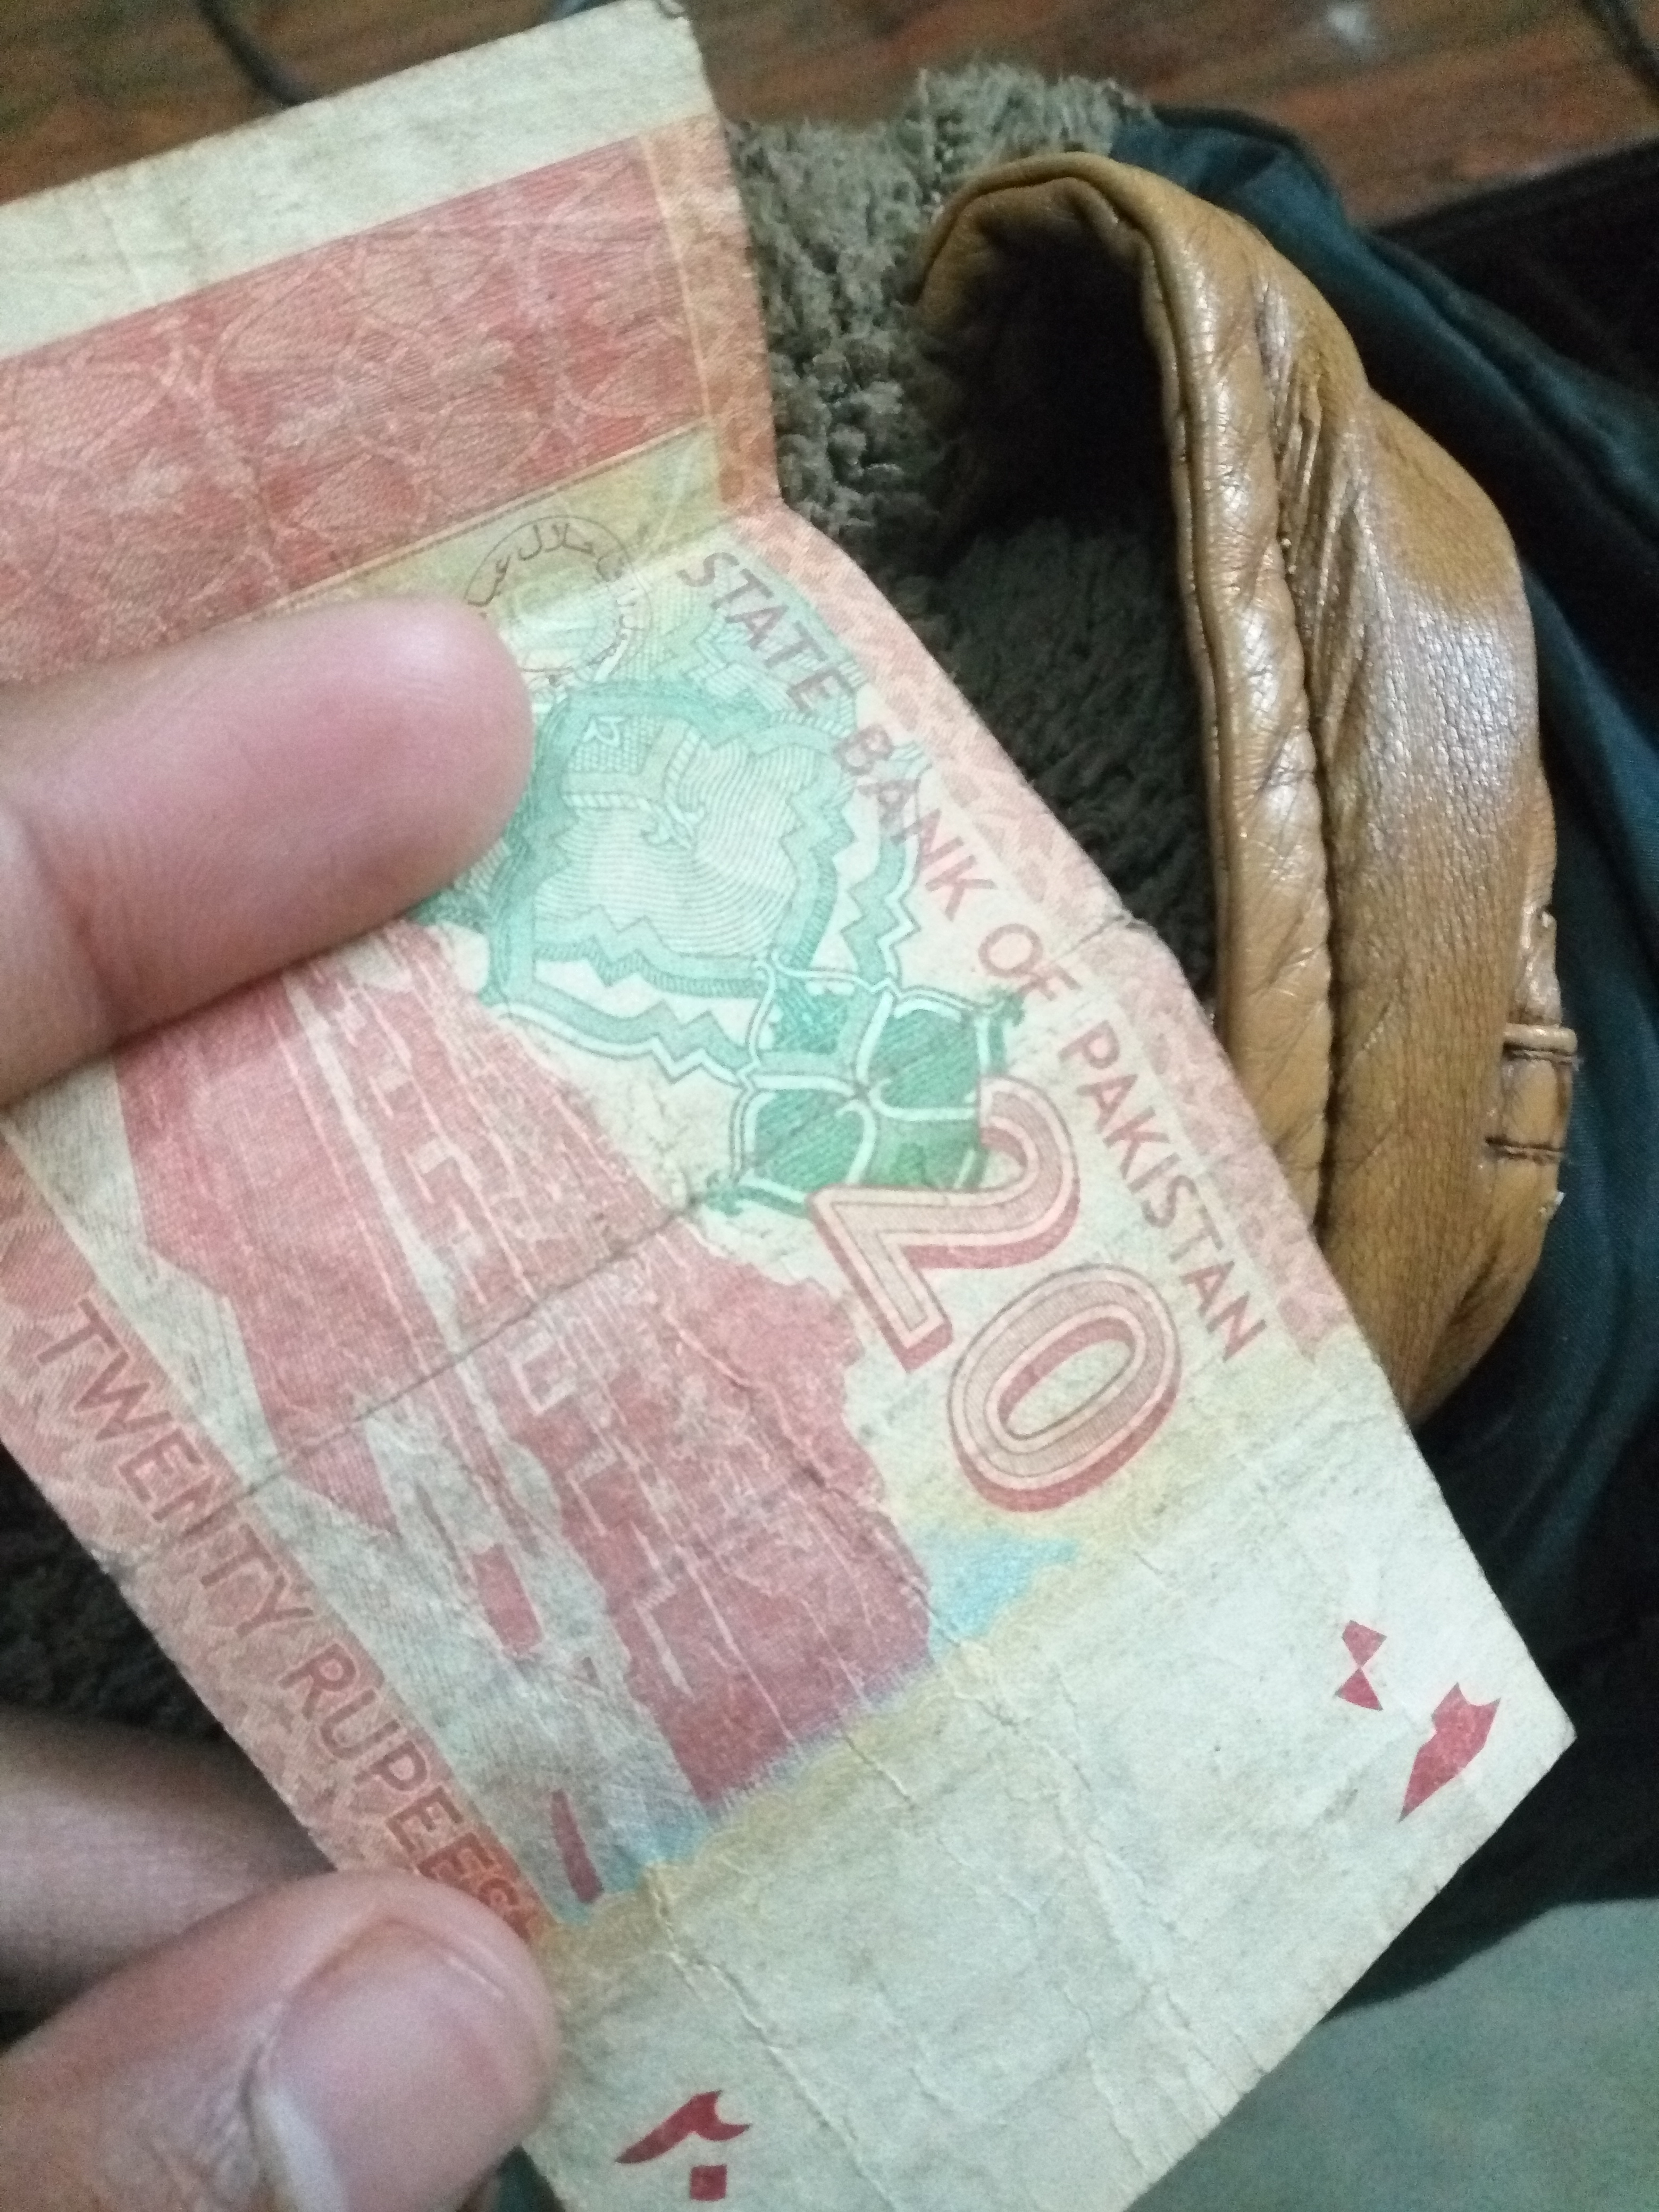20 rupee: (30, 9, 1563, 2212)
